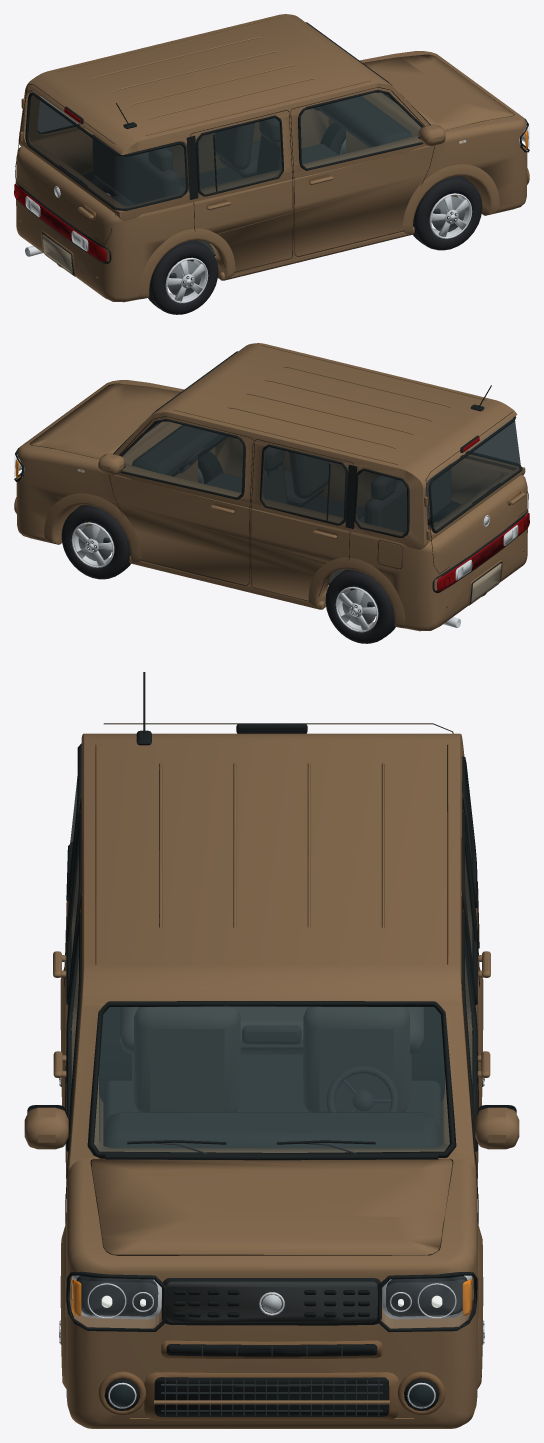
Rendered from nissan_cube.glb.
3 views of the same model, one above another, from view 1: azimuth 30°, elevation 25°; view 2: azimuth 150°, elevation 25°; view 3: azimuth 270°, elevation 25° (orthographic). The views are drawn at different scales.
Visible parts, largest first — view 1: BrownBodywork, WraparoundGlazing, CabinAndDriver, RubberTrimAndUnderbody, RFTires, RRTires, RFAlloyRims, RRAlloyRims, HeadlightsAndIndicators, RearBrakeLights; view 2: BrownBodywork, WraparoundGlazing, CabinAndDriver, RubberTrimAndUnderbody, LFTires, LRTires, LFAlloyRims, LRAlloyRims, HeadlightsAndIndicators, RearBrakeLights; view 3: BrownBodywork, WraparoundGlazing, RubberTrimAndUnderbody, CabinAndDriver, LampGlazing, HeadlightsAndIndicators, ChromeHandlesGrilleAndBadges.
Part boxes in pixels (x1=…): BrownBodywork: x1=16, y1=14, x2=529, y2=302; WraparoundGlazing: x1=27, y1=92, x2=421, y2=208; CabinAndDriver: x1=92, y1=96, x2=411, y2=261; RubberTrimAndUnderbody: x1=15, y1=22, x2=529, y2=286; RFTires: x1=413, y1=175, x2=482, y2=250; RRTires: x1=148, y1=240, x2=218, y2=314; RFAlloyRims: x1=429, y1=193, x2=472, y2=238; RRAlloyRims: x1=165, y1=257, x2=208, y2=303; HeadlightsAndIndicators: x1=14, y1=129, x2=528, y2=258; RearBrakeLights: x1=14, y1=108, x2=106, y2=262; BrownBodywork: x1=14, y1=343, x2=527, y2=631; WraparoundGlazing: x1=122, y1=418, x2=520, y2=535; CabinAndDriver: x1=132, y1=425, x2=451, y2=590; RubberTrimAndUnderbody: x1=14, y1=351, x2=528, y2=615; LFTires: x1=61, y1=504, x2=130, y2=579; LRTires: x1=325, y1=569, x2=395, y2=643; LFAlloyRims: x1=71, y1=522, x2=114, y2=567; LRAlloyRims: x1=335, y1=586, x2=378, y2=632; HeadlightsAndIndicators: x1=15, y1=458, x2=529, y2=587; RearBrakeLights: x1=437, y1=437, x2=529, y2=591; BrownBodywork: x1=24, y1=733, x2=519, y2=1428; WraparoundGlazing: x1=69, y1=776, x2=474, y2=1407; RubberTrimAndUnderbody: x1=27, y1=672, x2=516, y2=1416; CabinAndDriver: x1=103, y1=1007, x2=440, y2=1147; LampGlazing: x1=72, y1=1280, x2=471, y2=1327; HeadlightsAndIndicators: x1=65, y1=1194, x2=478, y2=1319; ChromeHandlesGrilleAndBadges: x1=87, y1=1283, x2=456, y2=1408.
Size of the model in its own units: 4.17 by 1.94 by 2.05.
